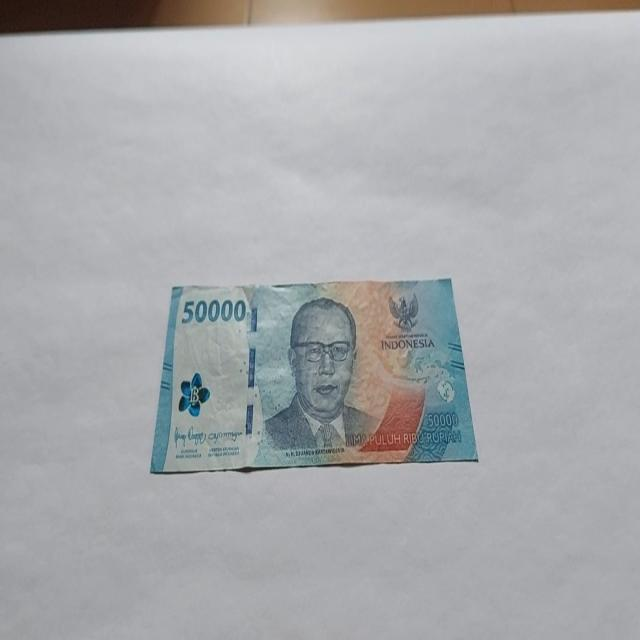lima puluh ribu rupiah: (150, 276, 478, 474), (262, 295, 380, 454)
